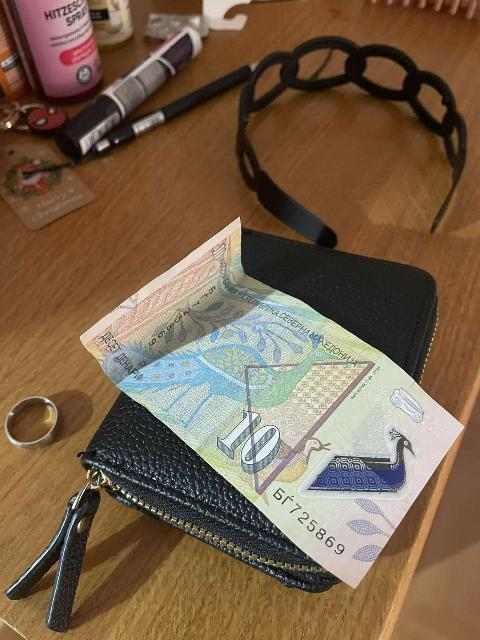10_note: (96, 228, 447, 580)
